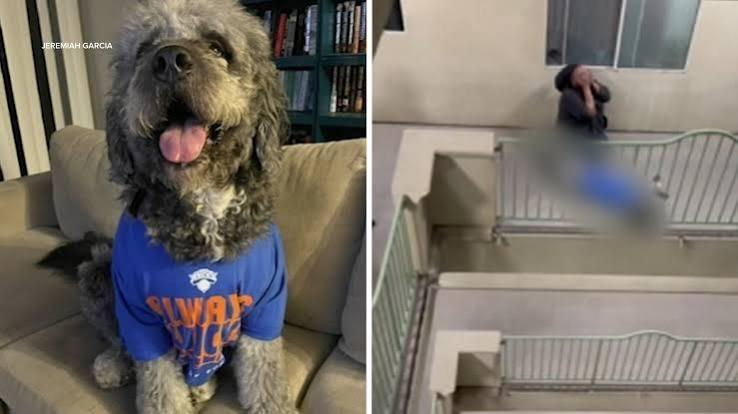adult_dog: (33, 1, 308, 414)
non-dog: (554, 56, 612, 133)
